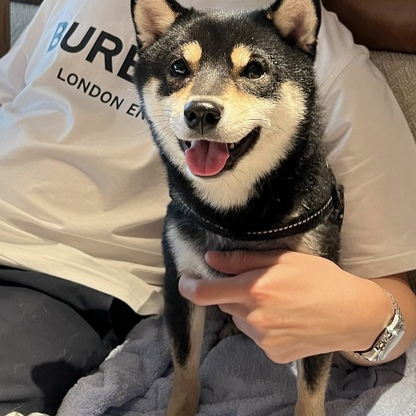shiba: (125, 1, 348, 416)
